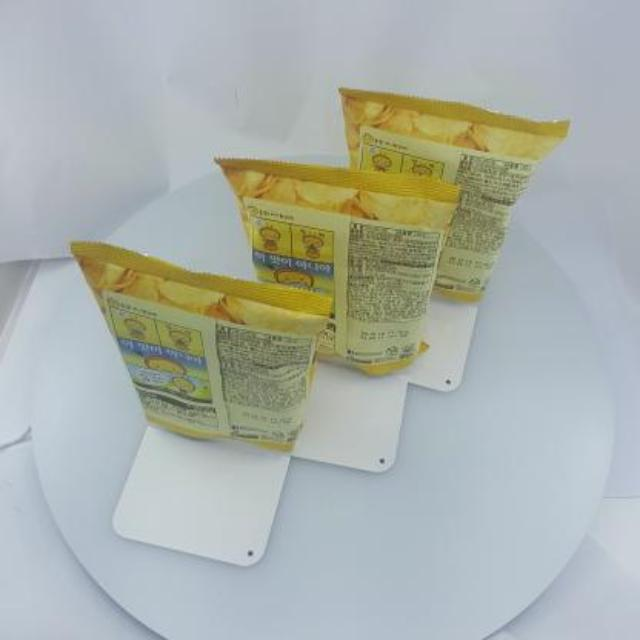snack_bag: (59, 72, 583, 476)
